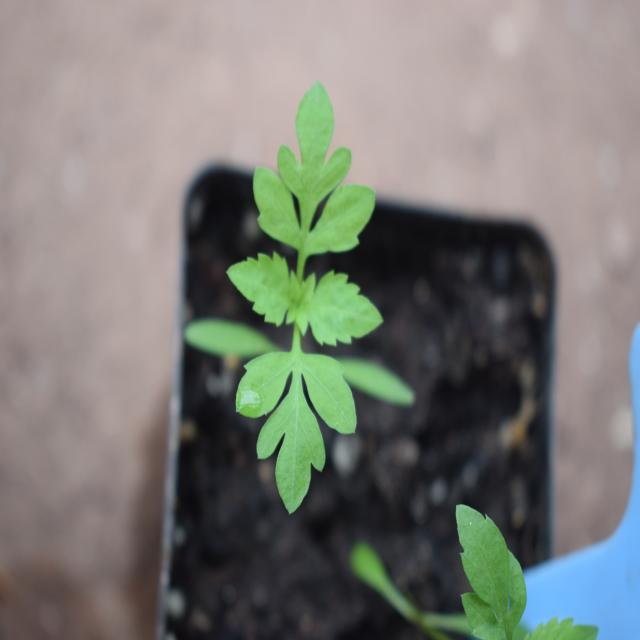Bidens pilosa: (194, 74, 408, 501)
